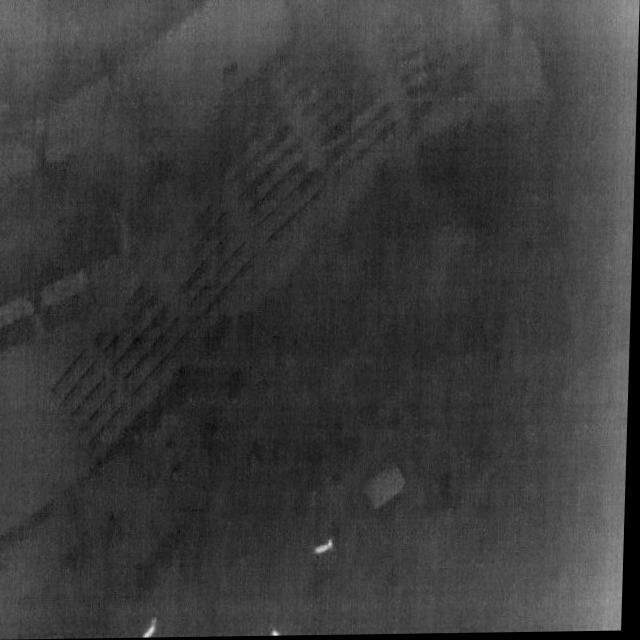deer: (145, 618, 163, 638), (316, 539, 337, 556), (273, 630, 286, 637)
